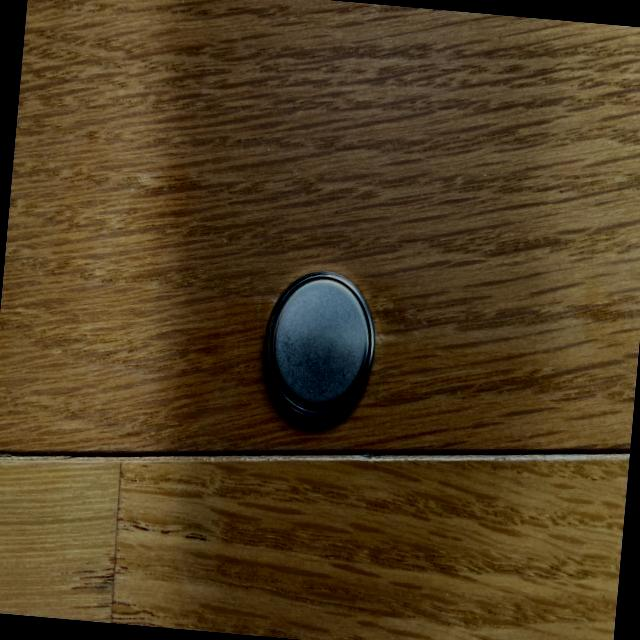COIN: (255, 264, 382, 427)
